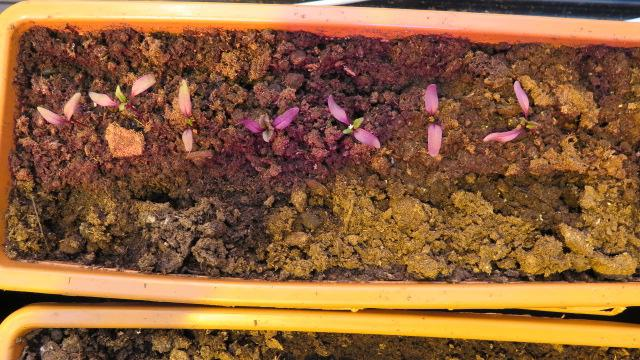crop: (476, 77, 542, 144), (321, 92, 383, 149), (85, 70, 158, 115), (228, 105, 301, 143), (27, 88, 84, 127), (171, 81, 197, 153), (421, 80, 445, 157)
